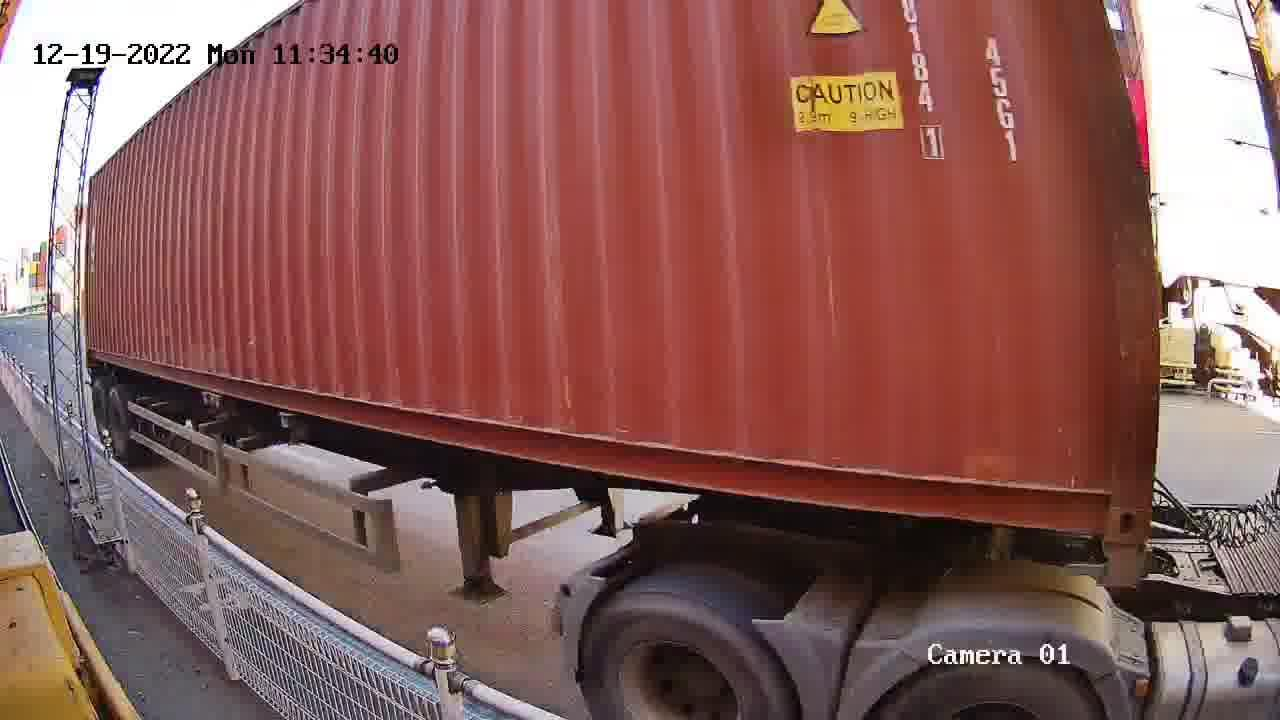Cone: (1095, 543, 1149, 587)
Hole_R: (1046, 460, 1153, 545)
Tire: (580, 595, 777, 717), (883, 659, 1093, 716)
